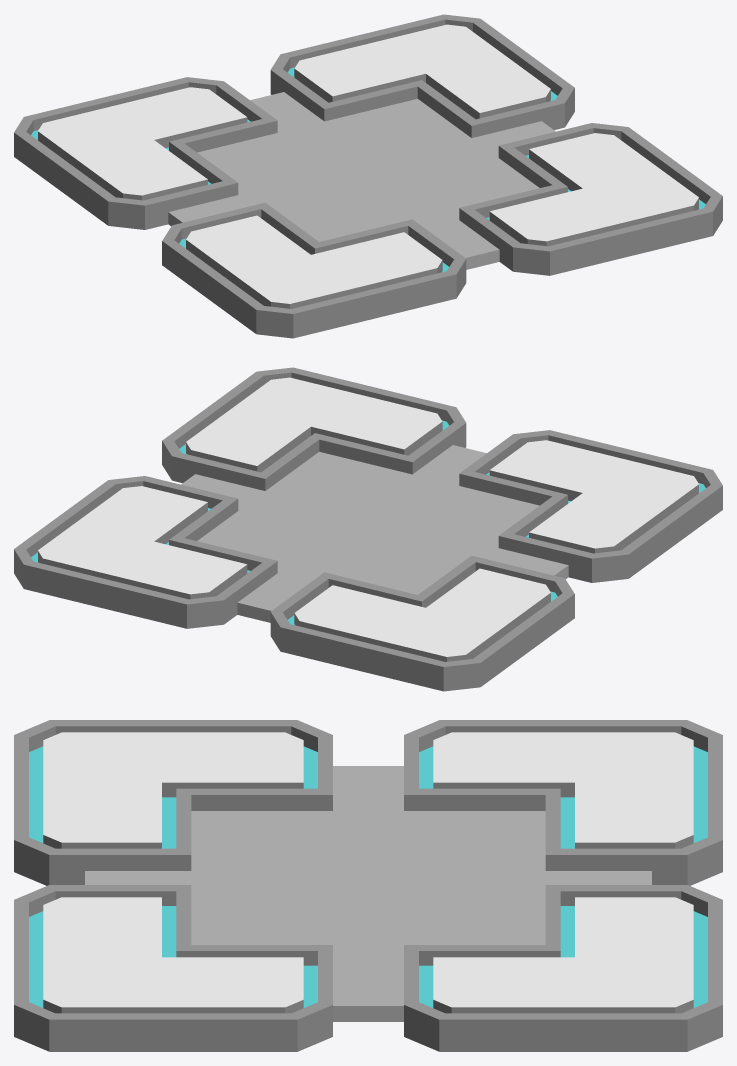
File: TurretBase.fbx
3 views of the same model, one above another, from view 1: azimuth 30°, elevation 25°; view 2: azimuth 150°, elevation 25°; view 3: azimuth 270°, elevation 25° (orthographic). The views are drawn at different scales.
Visible parts, largest first — view 1: Plane.003, Plane.001; view 2: Plane.003, Plane.001; view 3: Plane.003, Plane.001.
Part boxes in pixels (x1,y1,x2,y2): Plane.003: (14,14,722,338); Plane.001: (168,92,555,269); Plane.003: (14,367,722,691); Plane.001: (181,445,568,622); Plane.003: (14,720,722,1051); Plane.001: (85,766,651,1021).
Bounding box in the file's own units: 1 × 0.05 × 1.
